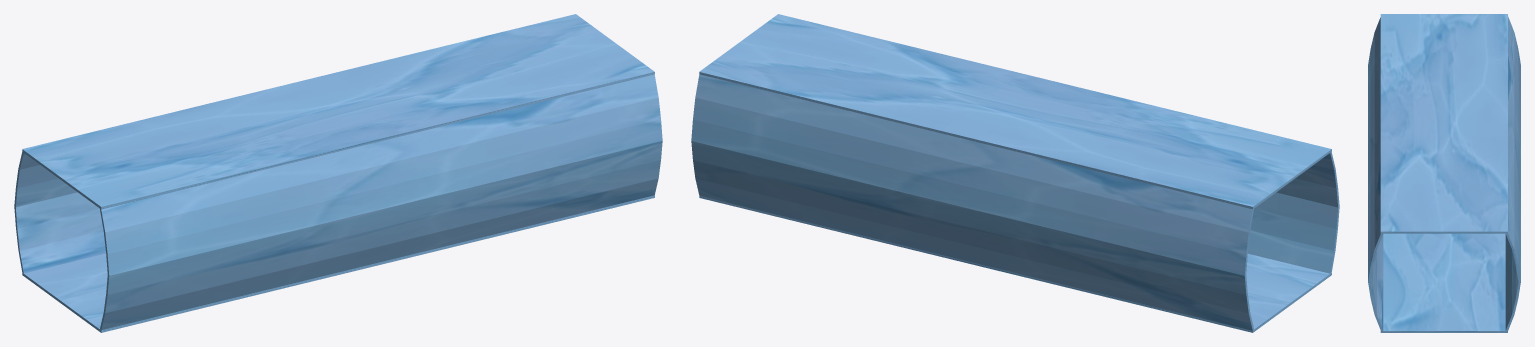
File: Tunnel.fbx
The picture shows the model from 3 angles, left to right: view 1: azimuth 30°, elevation 25°; view 2: azimuth 150°, elevation 25°; view 3: azimuth 270°, elevation 25°; orthographic projection. The views are drawn at different scales.
Visible parts, largest first — view 1: Tunnel Left Wall, Tunnel Roof, Tunnel Right Wall, Tunnel Floor; view 2: Tunnel Right Wall, Tunnel Roof, Tunnel Left Wall, Tunnel Floor; view 3: Tunnel Roof, Tunnel Floor, Tunnel Right Wall, Tunnel Left Wall.
Part boxes in pixels (left/top/right/bottom): Tunnel Left Wall: left=100, top=74, right=662, bottom=330; Tunnel Roof: left=22, top=14, right=654, bottom=209; Tunnel Right Wall: left=14, top=152, right=105, bottom=273; Tunnel Floor: left=22, top=195, right=654, bottom=332; Tunnel Right Wall: left=691, top=74, right=1253, bottom=330; Tunnel Roof: left=699, top=14, right=1331, bottom=209; Tunnel Left Wall: left=1248, top=152, right=1339, bottom=273; Tunnel Floor: left=699, top=196, right=1331, bottom=332; Tunnel Roof: left=1380, top=14, right=1507, bottom=233; Tunnel Floor: left=1380, top=233, right=1507, bottom=332; Tunnel Right Wall: left=1505, top=16, right=1520, bottom=330; Tunnel Left Wall: left=1368, top=17, right=1383, bottom=330.
Size of the model in its own units: 3991 by 868 by 1185.
Materials: 1 (1 with a texture image).
